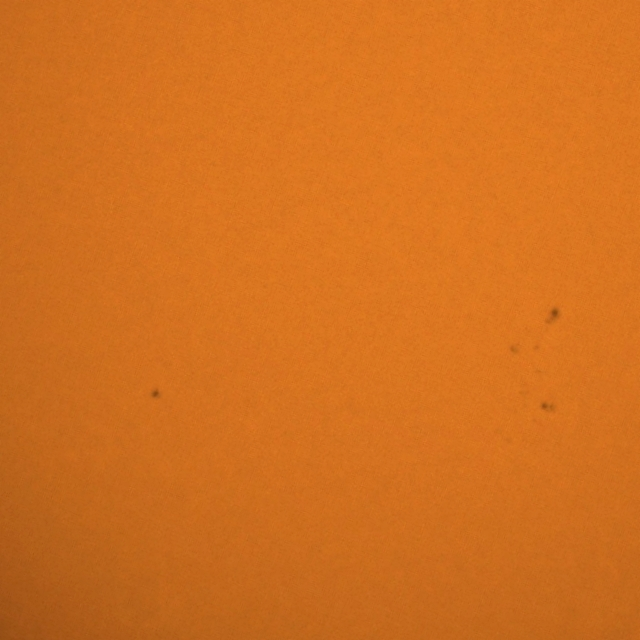sunspot: (544, 306, 562, 325), (539, 400, 556, 414), (150, 388, 162, 401)
